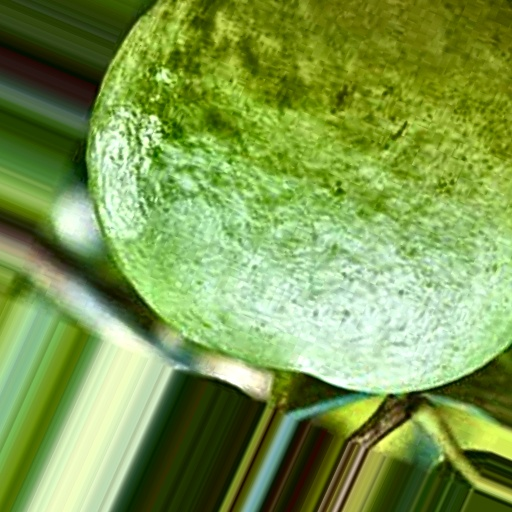guava: (55, 32, 390, 384)
